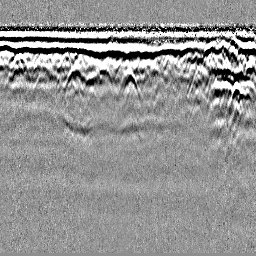cavity: (116, 67, 141, 100)
